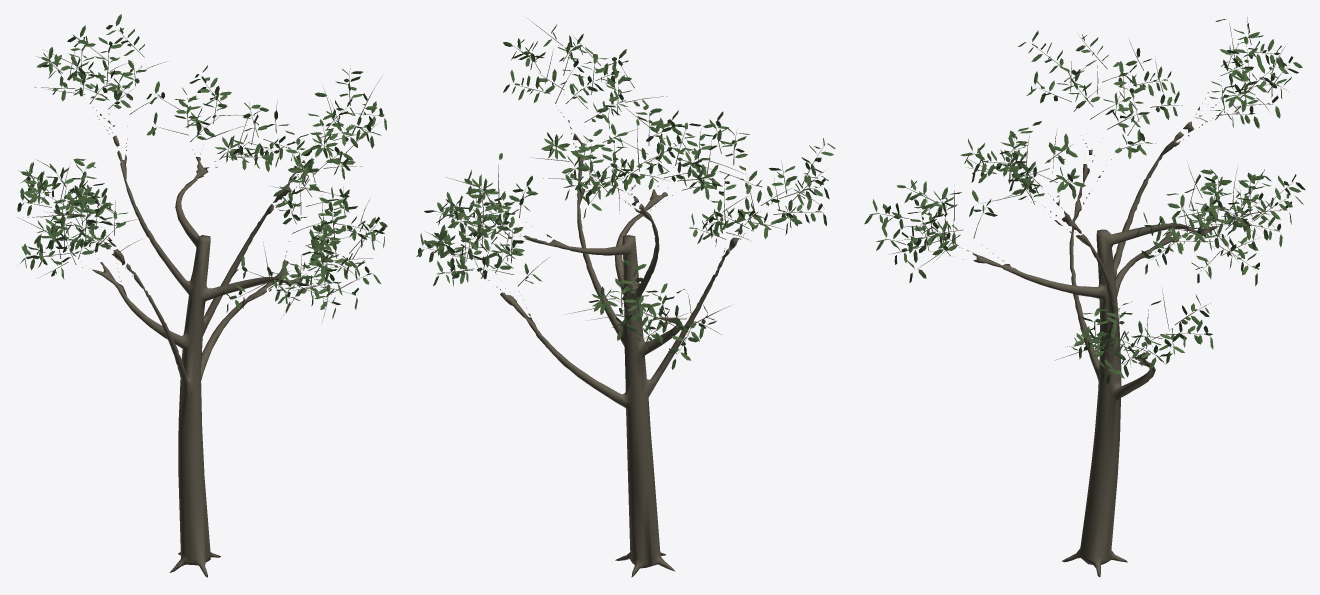
File: CheneVert_0_Niveau1.fbx
3 views of the same model, side by side, from view 1: azimuth 30°, elevation 25°; view 2: azimuth 150°, elevation 25°; view 3: azimuth 270°, elevation 25° (orthographic). The views are drawn at different scales.
Parts seen in each view (by area): view 1: CheneVert_0_Niveau1_Jeu; view 2: CheneVert_0_Niveau1_Jeu; view 3: CheneVert_0_Niveau1_Jeu.
Boxes of the visible parts, left/top/right/bottom form: CheneVert_0_Niveau1_Jeu: left=17, top=14, right=387, bottom=577; CheneVert_0_Niveau1_Jeu: left=416, top=17, right=835, bottom=577; CheneVert_0_Niveau1_Jeu: left=864, top=17, right=1305, bottom=576.
Size of the model in its own units: 298 by 374 by 288.
